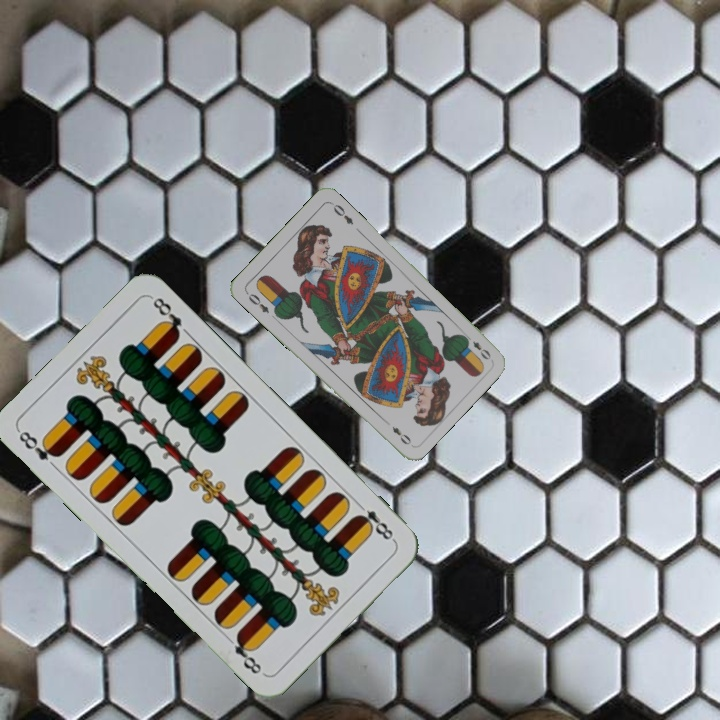E8: (351, 498, 398, 545), (14, 427, 64, 464)
EO: (461, 330, 494, 362), (242, 288, 272, 316)
